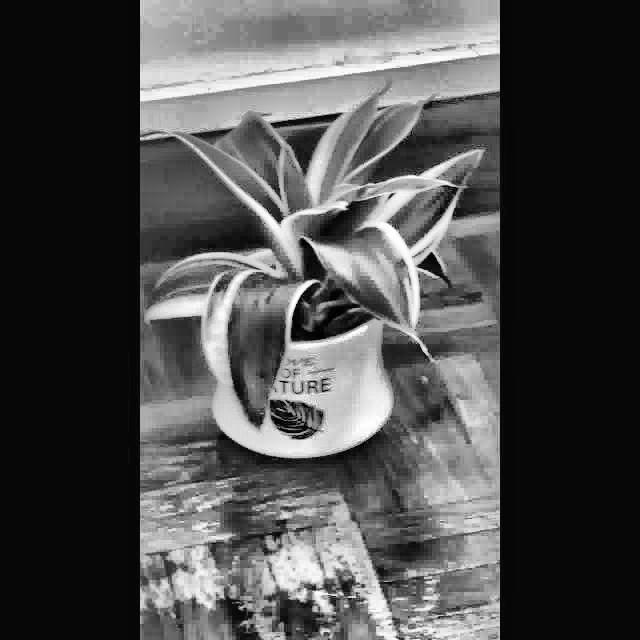plants: (140, 68, 492, 466)
